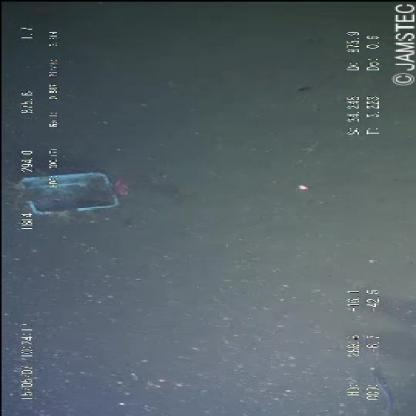Rác: (8, 163, 132, 219)
